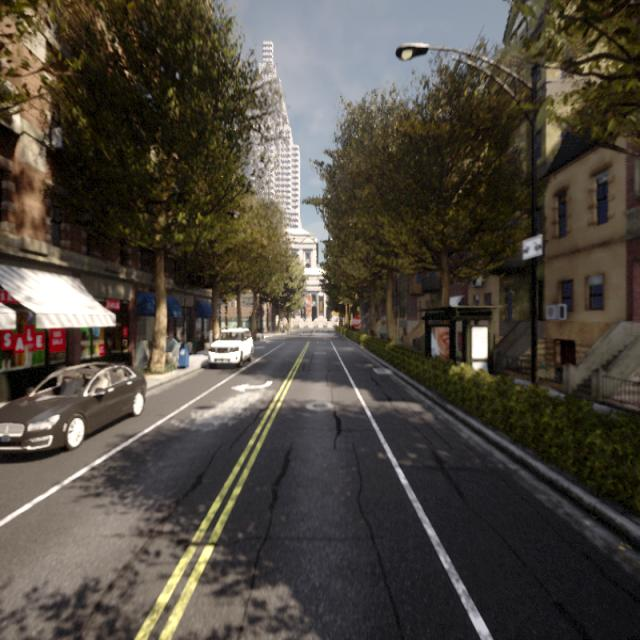stop sign: (346, 313, 367, 332)
